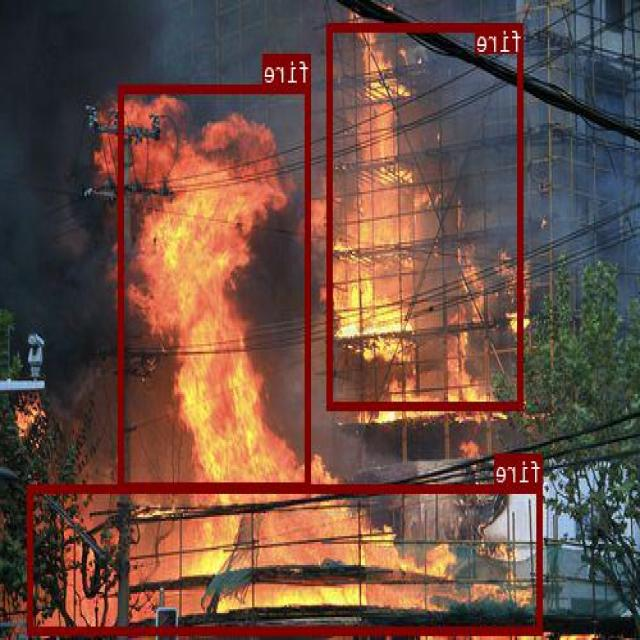fire: (120, 85, 312, 490), (28, 484, 543, 634), (328, 21, 524, 408)
